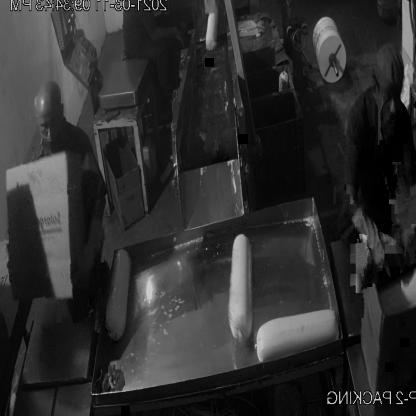no_glove: (145, 22, 189, 53)
